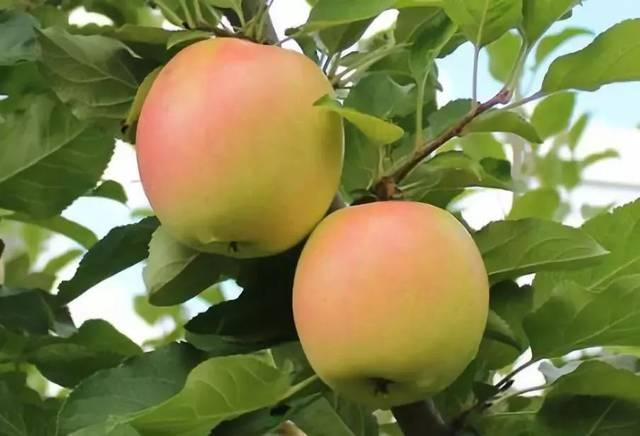apple: (134, 35, 349, 261), (291, 196, 492, 405)
